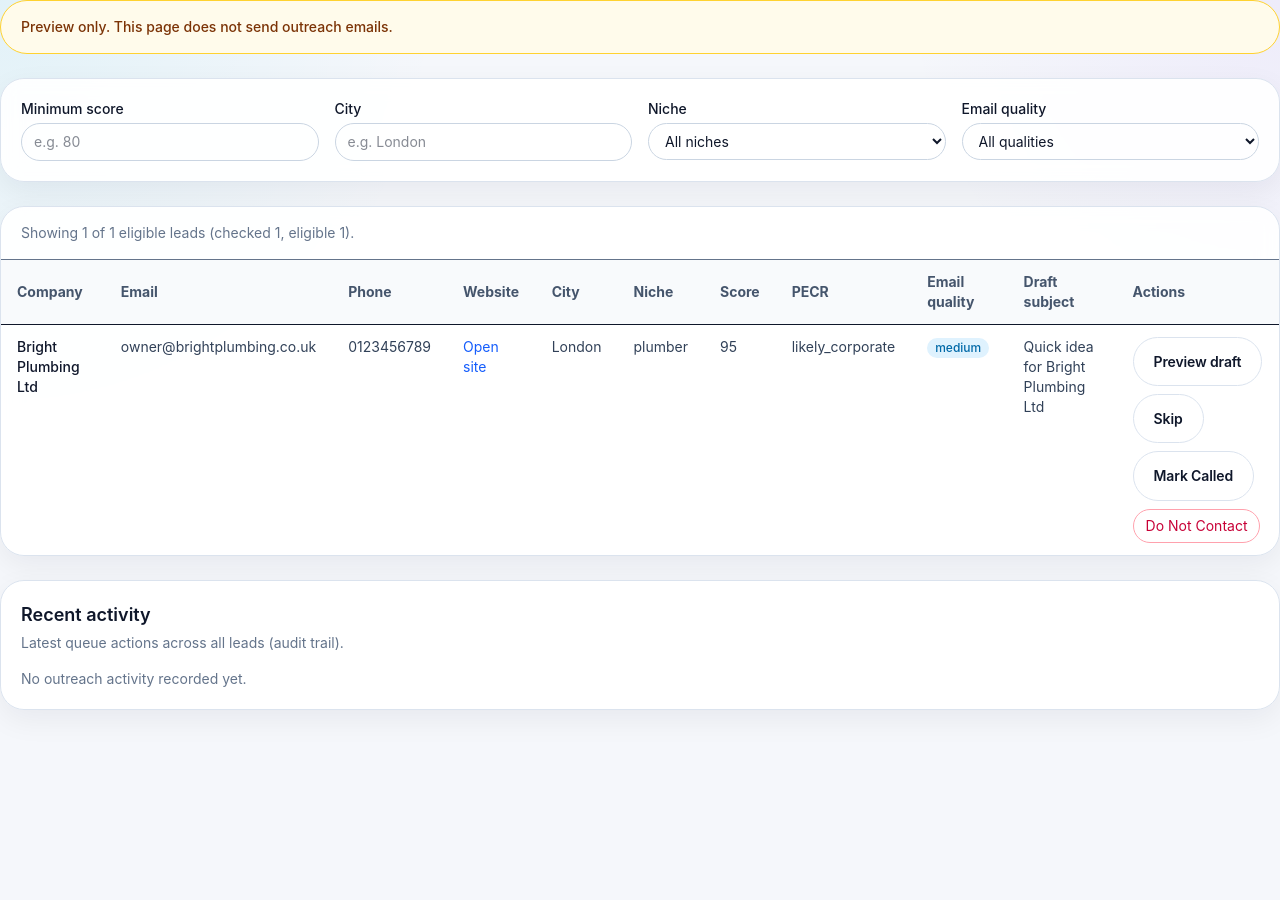
Scenario: QueueClient › expands and previews the draft body
This screenshot has width=1280, height=900.
Expected: the text "Bright Plumbing Ltd" is shown, [1,324,105,555]
Expected: the text "Hi Bright Plumbing Ltd team in London." is not shown
Click the button "Preview draft" at (1198, 362), box [1133,337,1262,386]
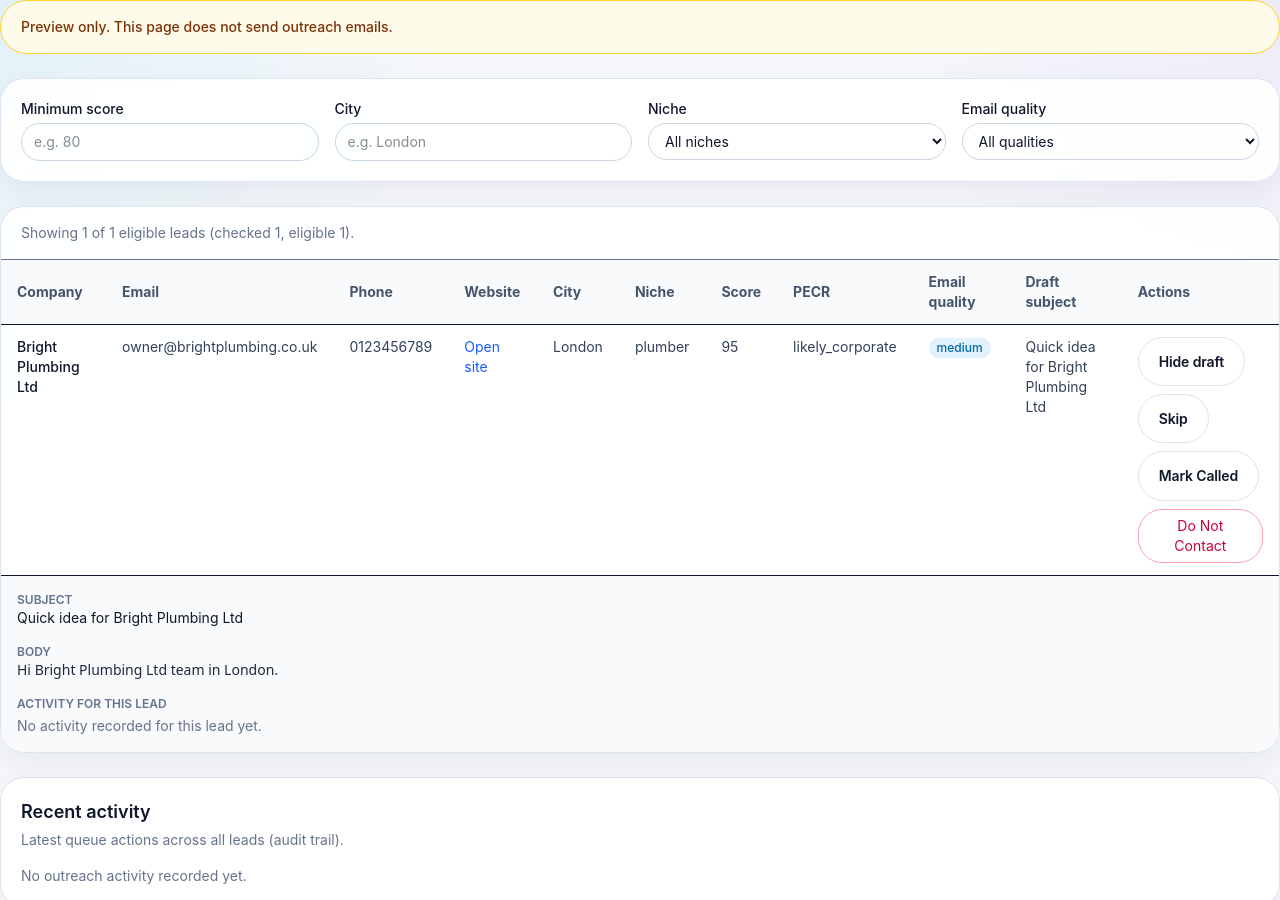
Expected: the text "Hi Bright Plumbing Ltd team in London." is shown, [17,660,278,679]
